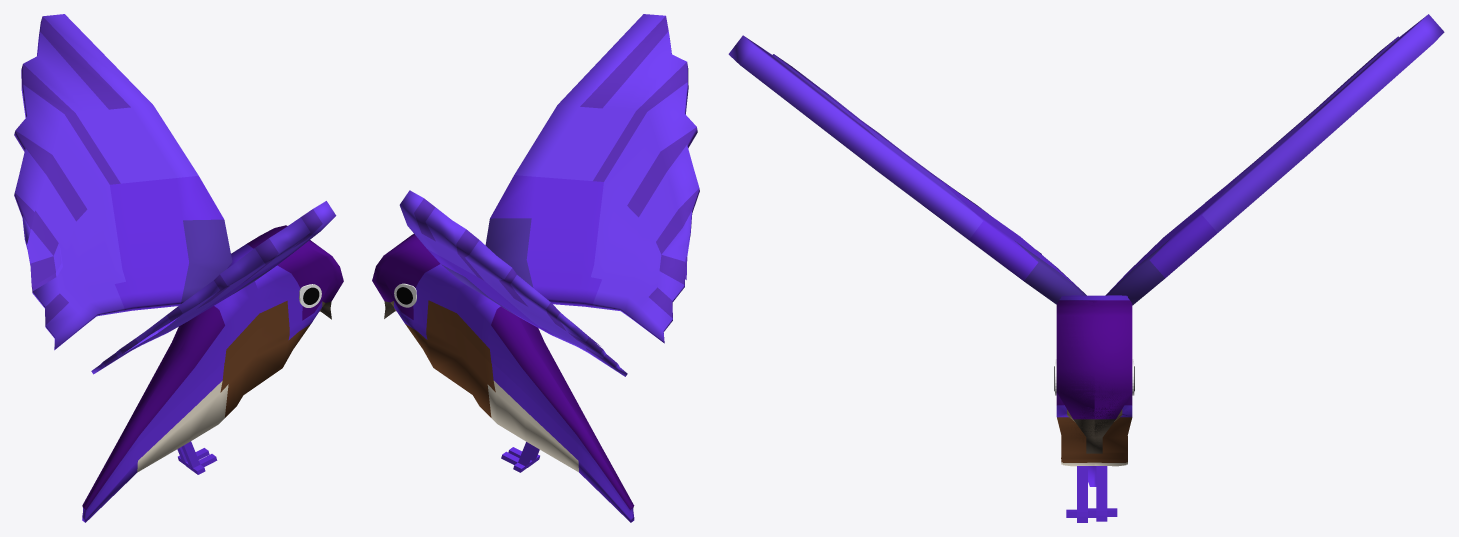
The model's file is Bird.fbx.
3 views of the same model, side by side, from view 1: azimuth 30°, elevation 25°; view 2: azimuth 150°, elevation 25°; view 3: azimuth 270°, elevation 25° (orthographic). The views are drawn at different scales.
Parts seen in each view (by area): view 1: Cube.001; view 2: Cube.001; view 3: Cube.001.
Part boxes in pixels (x1,y1,x2,y2): Cube.001: (14, 14, 343, 522); Cube.001: (372, 14, 699, 522); Cube.001: (728, 14, 1444, 522).
Bounding box in the file's own units: 83.85 × 122 × 150.
